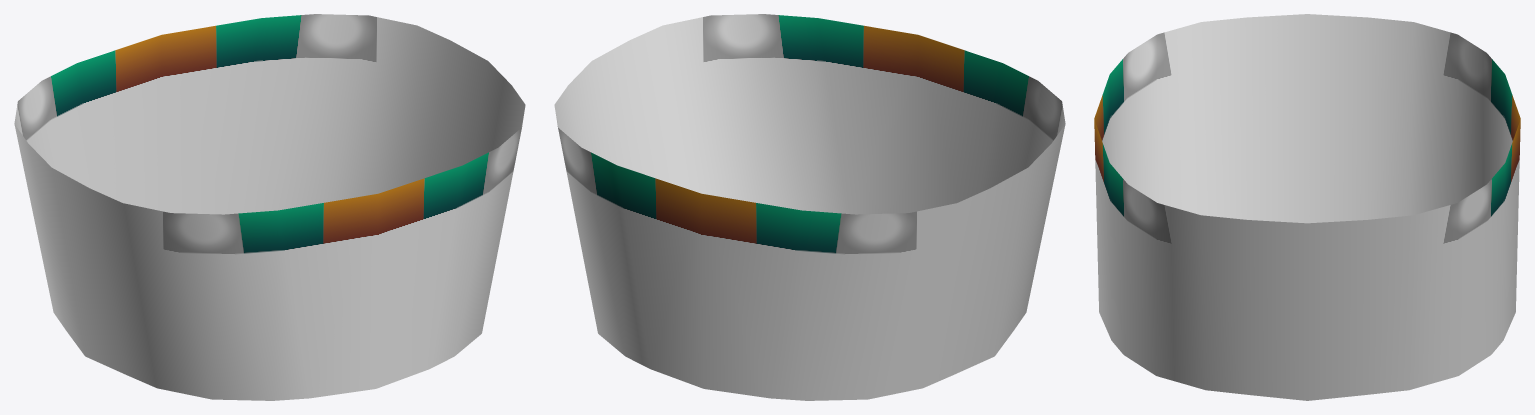
File: TimePlatformShine.fbx
3 renders of one model, left to right at view 1: azimuth 30°, elevation 25°; view 2: azimuth 150°, elevation 25°; view 3: azimuth 270°, elevation 25°, orthographic.
Visible parts, largest first — view 1: TimePlatformShine; view 2: TimePlatformShine; view 3: TimePlatformShine.
Boxes of the visible parts, left/top/right/bottom form: TimePlatformShine: left=14, top=14, right=525, bottom=400; TimePlatformShine: left=554, top=14, right=1065, bottom=400; TimePlatformShine: left=1094, top=14, right=1520, bottom=400.
Bounding box in the file's own units: 6.18 × 5.32 × 2.67.
